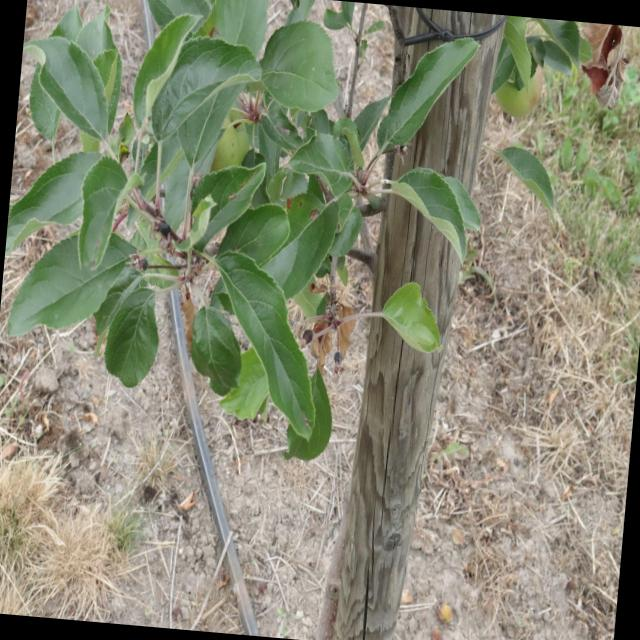-FireBlight-: (294, 286, 353, 372), (162, 256, 208, 358)
